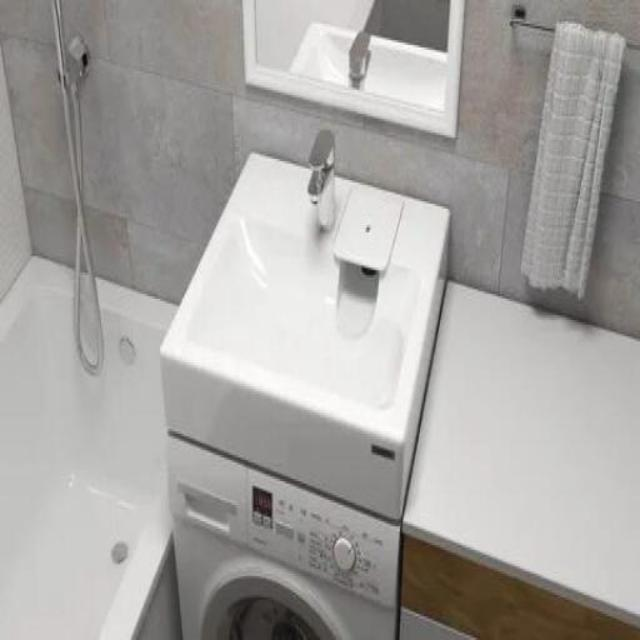Washing-Machine: (170, 434, 388, 638)
